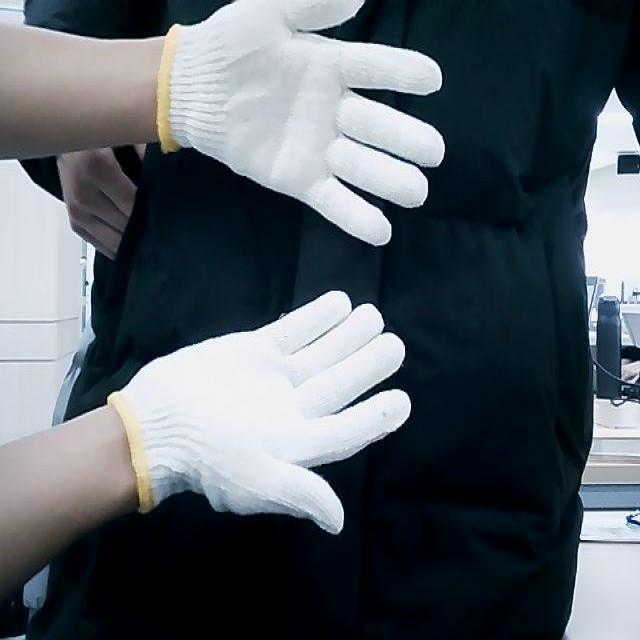gloves: (108, 290, 412, 534), (154, 0, 446, 250)
